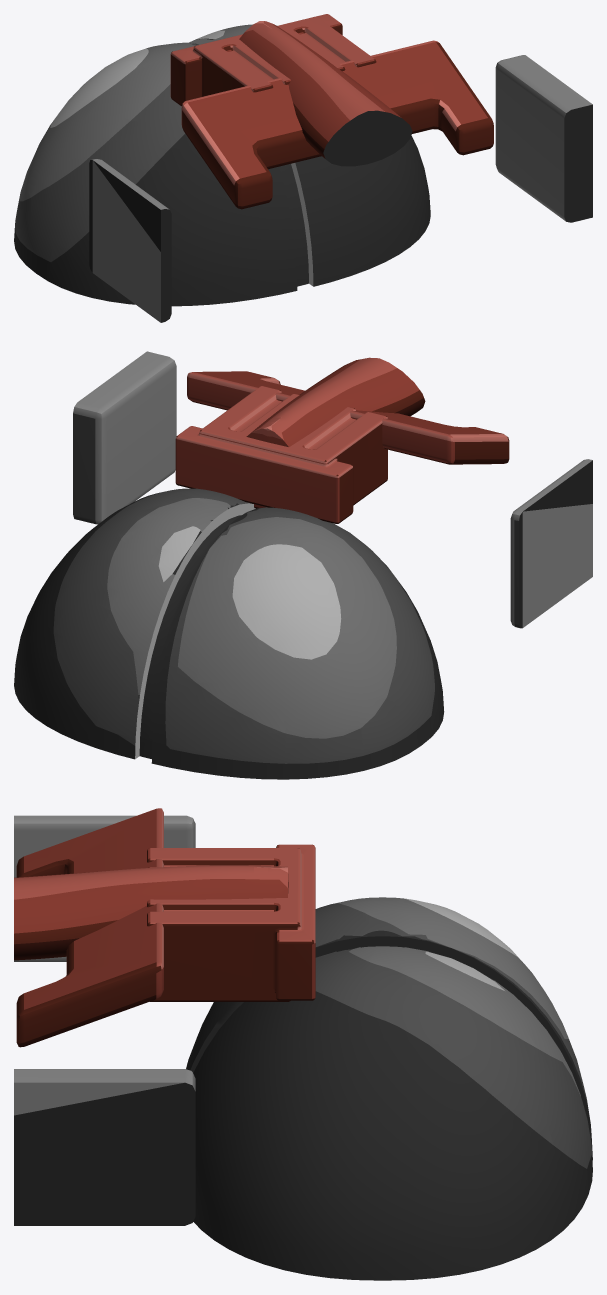
Rendered from ixm_dock_tc.glb.
3 views of the same model, one above another, from view 1: azimuth 30°, elevation 25°; view 2: azimuth 150°, elevation 25°; view 3: azimuth 270°, elevation 25° (orthographic). The views are drawn at different scales.
Visible parts, largest first — view 1: ixm_dock_tc; view 2: ixm_dock_tc; view 3: ixm_dock_tc.
Part boxes in pixels (x1=…): ixm_dock_tc: x1=14, y1=14, x2=592, y2=322; ixm_dock_tc: x1=14, y1=351, x2=592, y2=779; ixm_dock_tc: x1=14, y1=808, x2=592, y2=1280.
Bounding box in the file's own units: 24 × 12.5 × 21.99.
